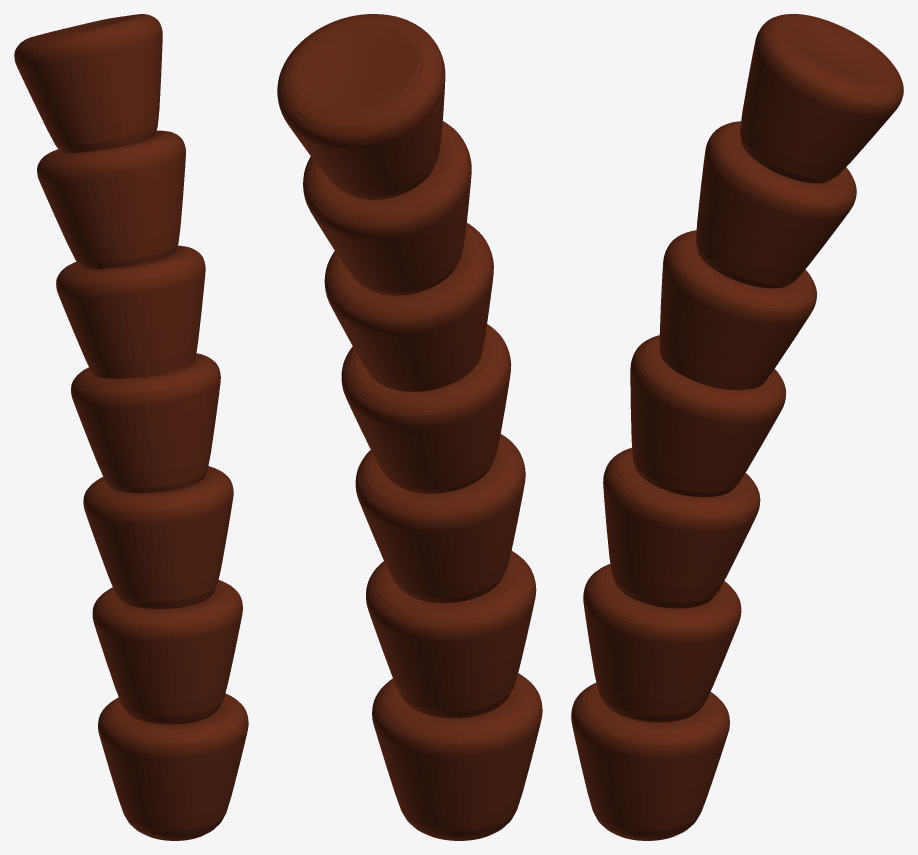
File: Tronco_20_H.obj
The picture shows the model from 3 angles, left to right: view 1: azimuth 30°, elevation 25°; view 2: azimuth 150°, elevation 25°; view 3: azimuth 270°, elevation 25°; orthographic projection. The views are drawn at different scales.
Parts seen in each view (by area): view 1: Cylinder.021_Cylinder.017; view 2: Cylinder.021_Cylinder.017; view 3: Cylinder.021_Cylinder.017.
Part boxes in pixels (left/top/right/bottom): Cylinder.021_Cylinder.017: left=14, top=14, right=248, bottom=840; Cylinder.021_Cylinder.017: left=277, top=14, right=542, bottom=840; Cylinder.021_Cylinder.017: left=571, top=14, right=903, bottom=840.
Bounding box in the file's own units: 10.68 × 59.42 × 22.35.
